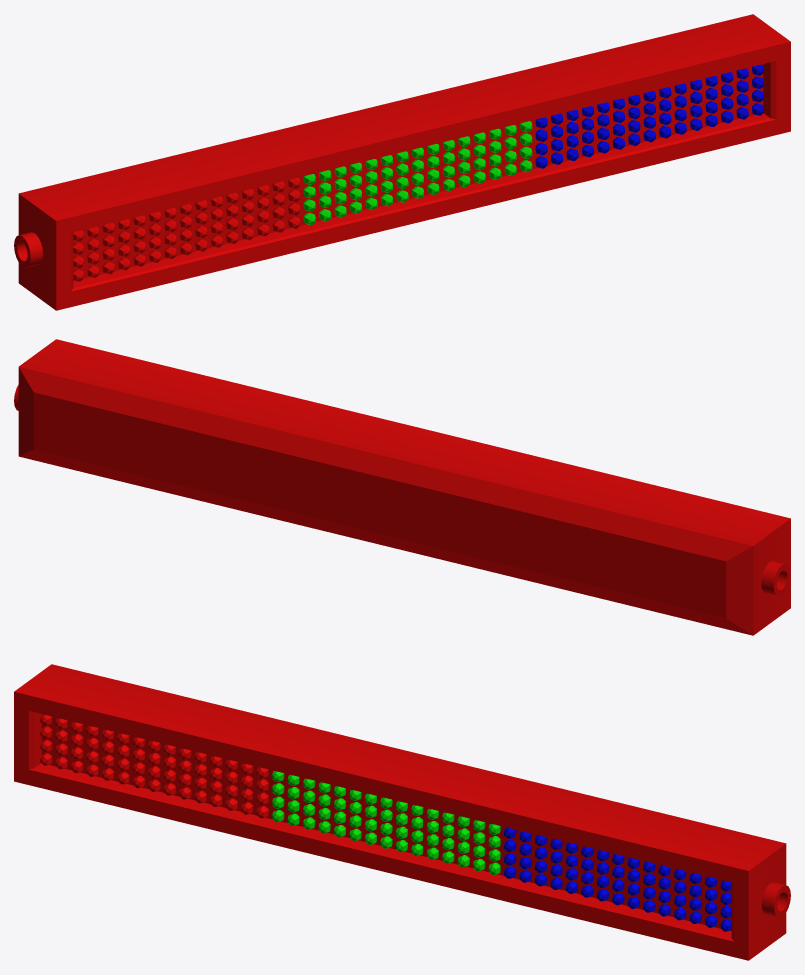
Rendered from LongTriColorLightBar.fbx.
3 views of the same model, one above another, from view 1: azimuth 30°, elevation 25°; view 2: azimuth 150°, elevation 25°; view 3: azimuth 330°, elevation 25° (orthographic).
Parts seen in each view (by area): view 1: LongLightBar; view 2: LongLightBar; view 3: LongLightBar.
Part boxes in pixels (left/top/right/bottom): LongLightBar: left=14, top=14, right=790, bottom=310; LongLightBar: left=14, top=339, right=790, bottom=635; LongLightBar: left=14, top=664, right=790, bottom=960.
Size of the model in its own units: 1.45 by 0.1633 by 0.1436.
